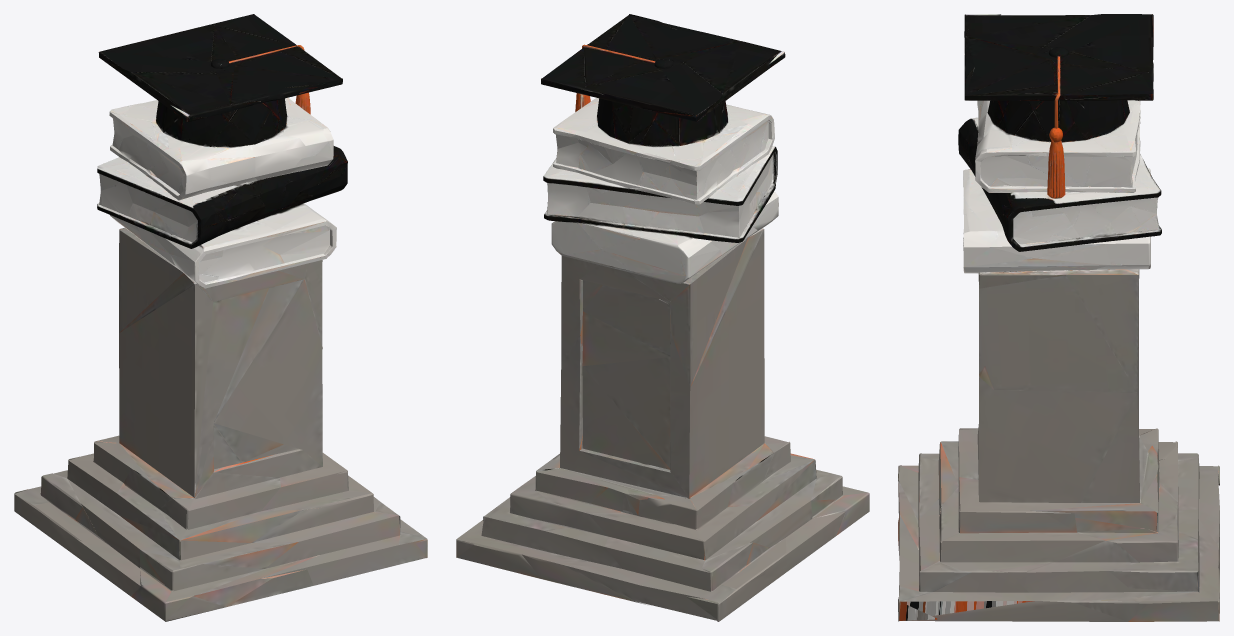
Rendered from scholar.glb.
The picture shows the model from 3 angles, left to right: view 1: azimuth 30°, elevation 25°; view 2: azimuth 150°, elevation 25°; view 3: azimuth 270°, elevation 25°; orthographic projection. The views are drawn at different scales.
Size of the model in its own units: 1.1 by 1.9 by 1.1.
1 material, 1 textured.
